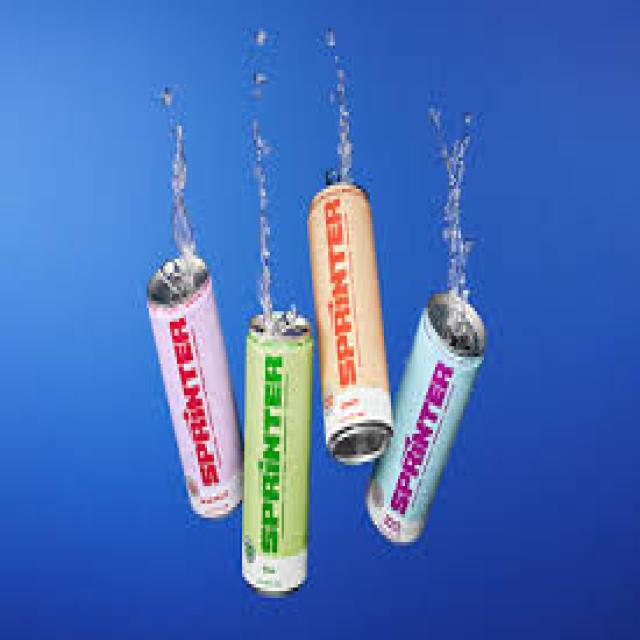Cans: (365, 276, 491, 553), (302, 171, 402, 472), (144, 248, 249, 521), (235, 304, 321, 602)
